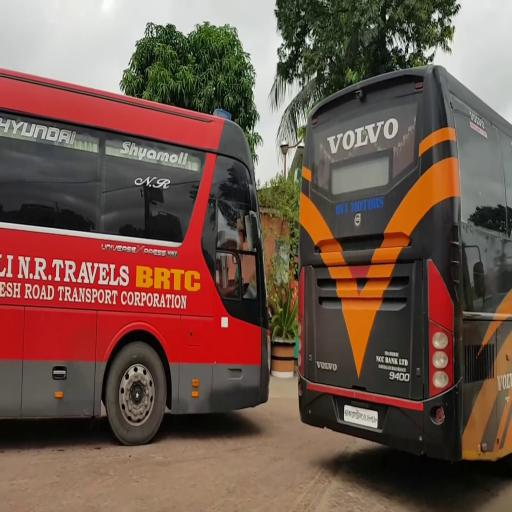bus: (5, 65, 271, 445), (298, 63, 511, 465)
